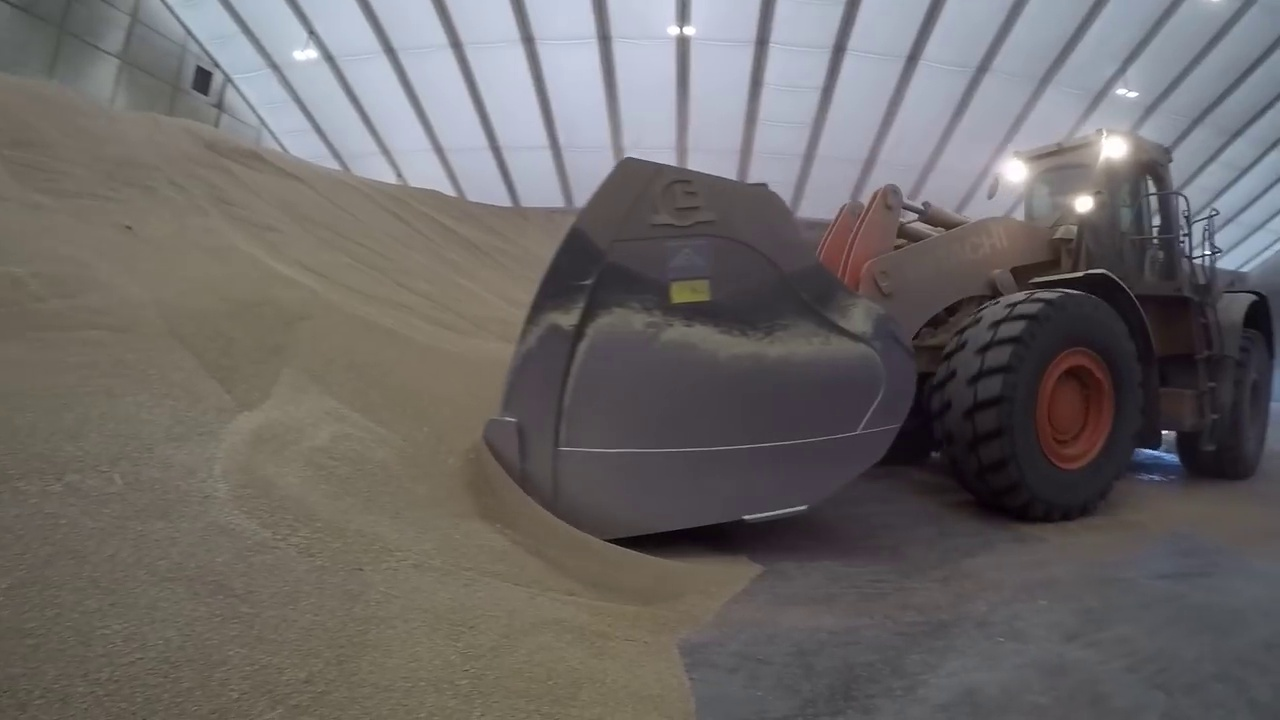wheel loader: (483, 126, 1280, 541)
